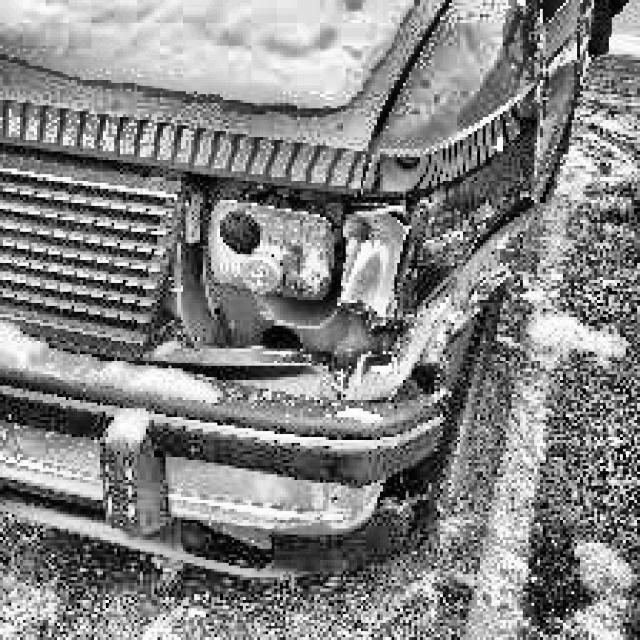head_lamp: (183, 190, 405, 353)
